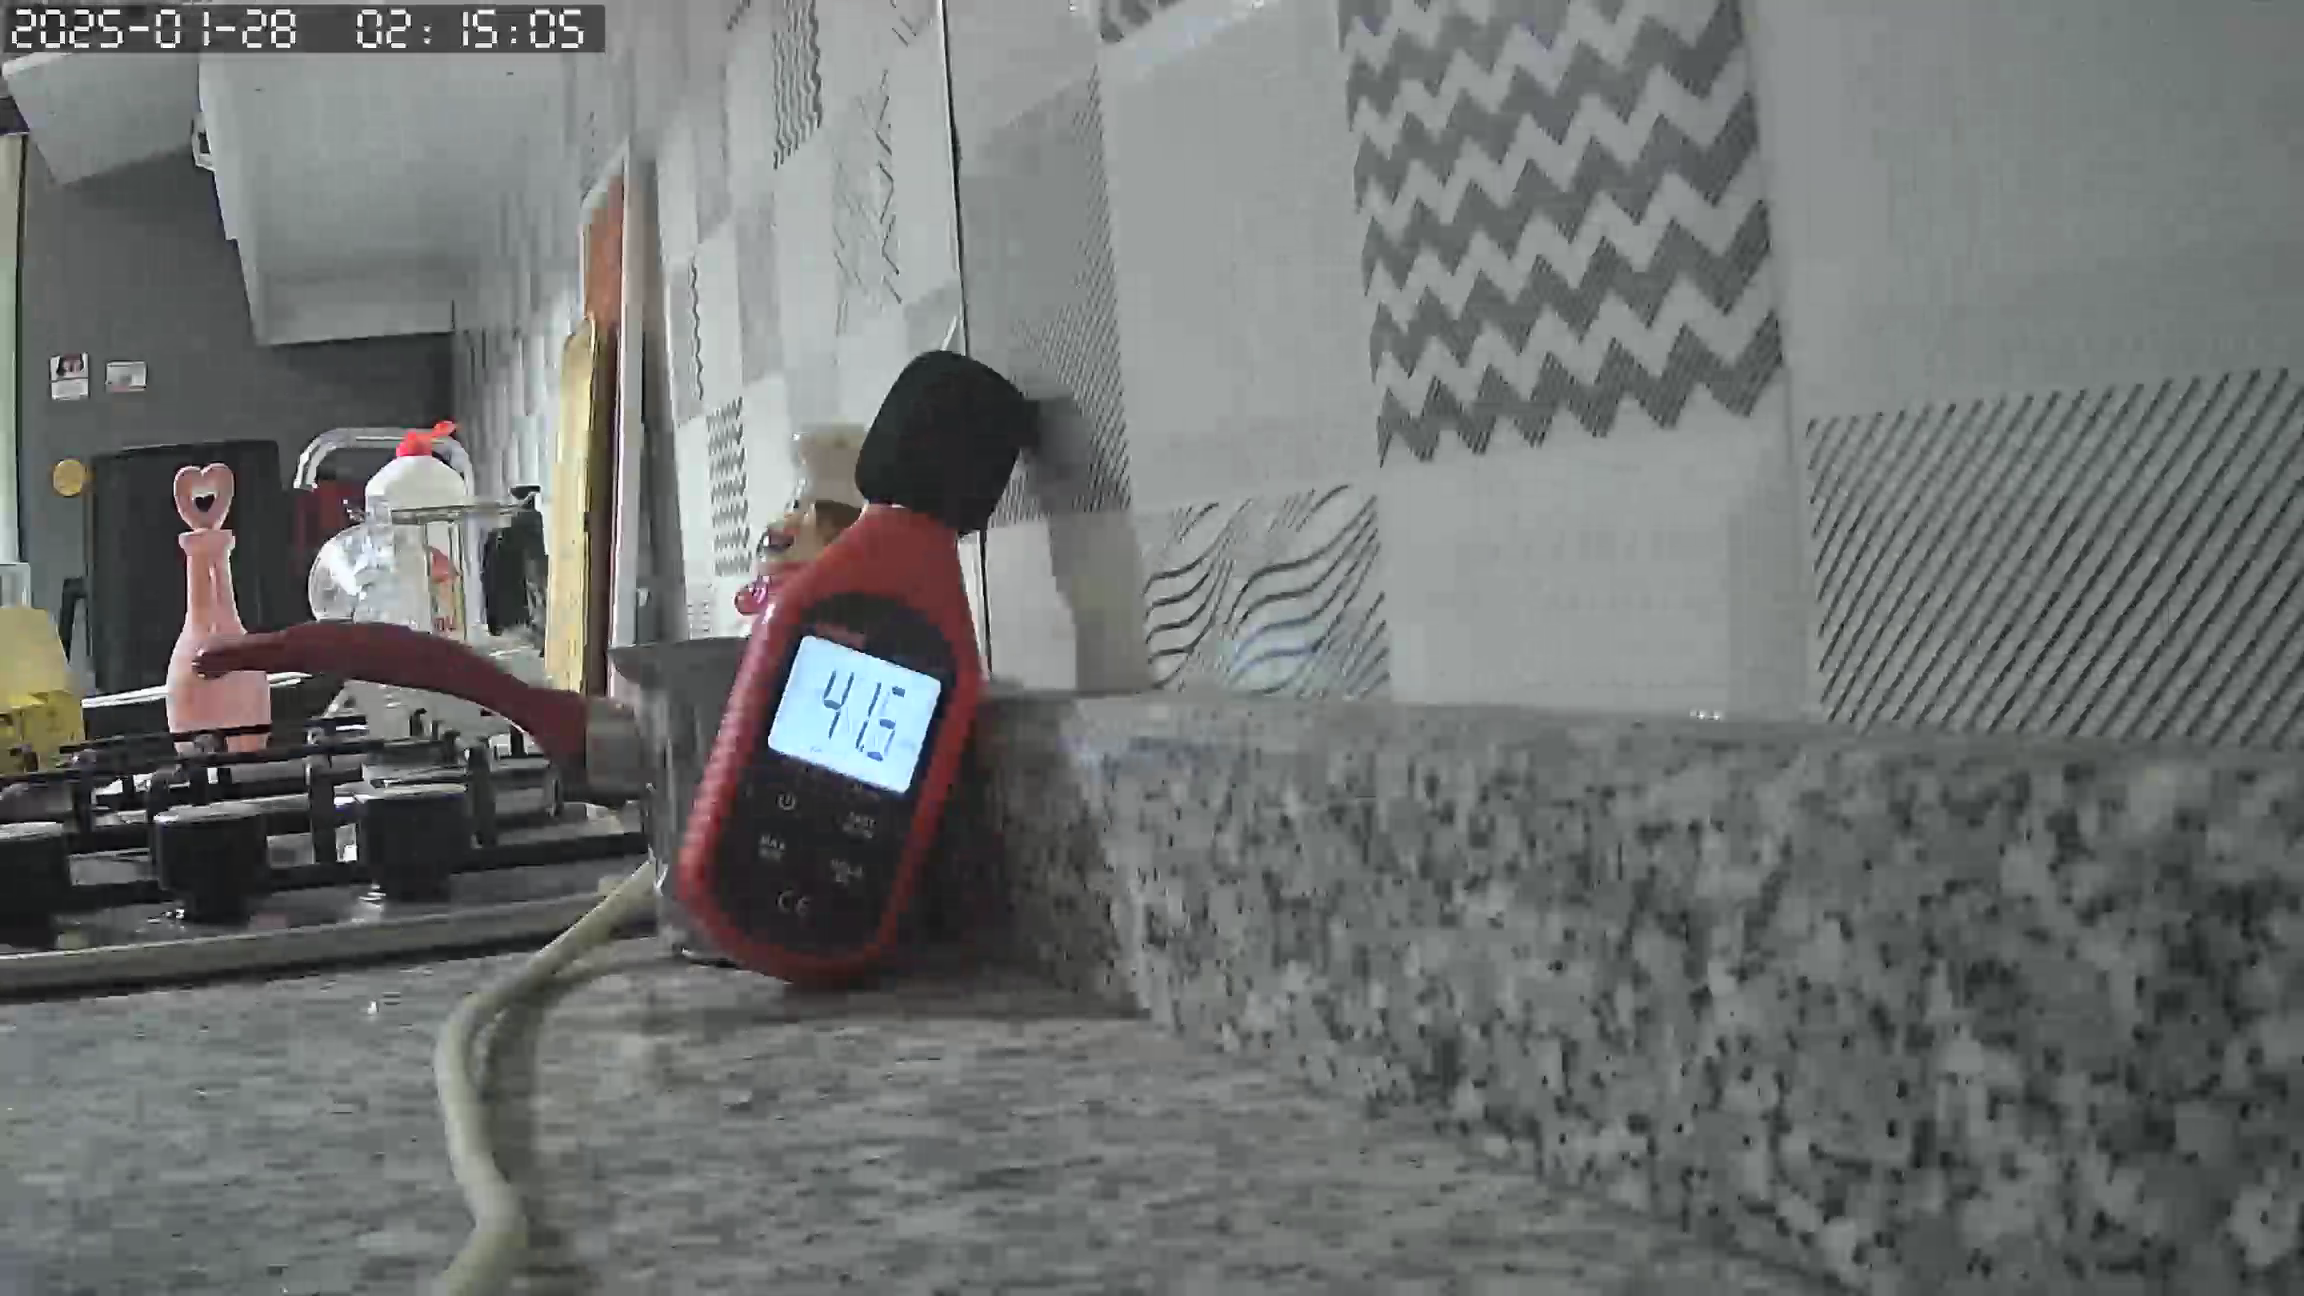screen: (764, 633, 938, 798)
